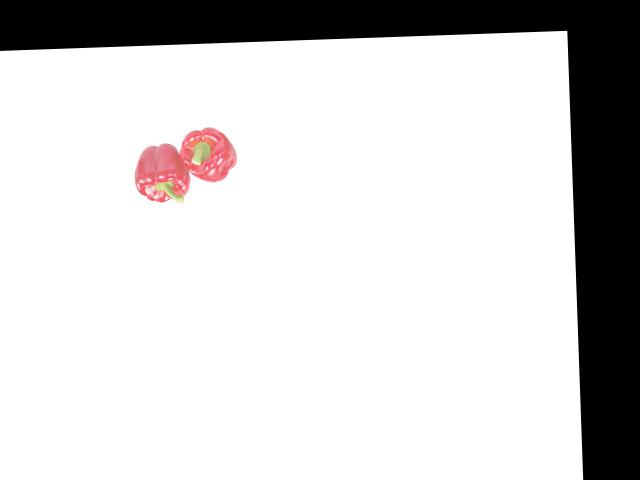bell_pepper: (131, 138, 192, 207)
